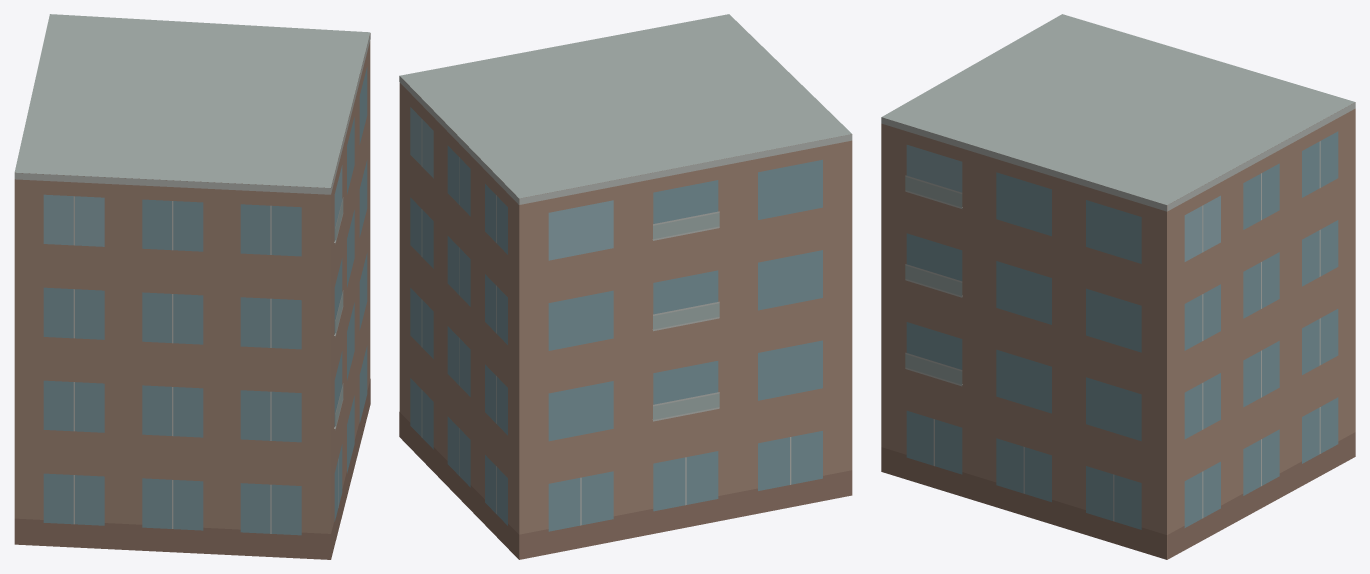
Rendered from survey-upis-32638141.glb.
The picture shows the model from 3 angles, left to right: view 1: azimuth 30°, elevation 25°; view 2: azimuth 150°, elevation 25°; view 3: azimuth 270°, elevation 25°; orthographic projection. The views are drawn at different scales.
Parts seen in each view (by area): view 1: survey-upis-32638141.tmp; view 2: survey-upis-32638141.tmp; view 3: survey-upis-32638141.tmp.
Part boxes in pixels (x1,y1,x2,y2): survey-upis-32638141.tmp: (14, 14, 370, 559); survey-upis-32638141.tmp: (399, 14, 852, 559); survey-upis-32638141.tmp: (881, 14, 1355, 559).
Size of the model in its own units: 15.62 by 13.5 by 16.37.
